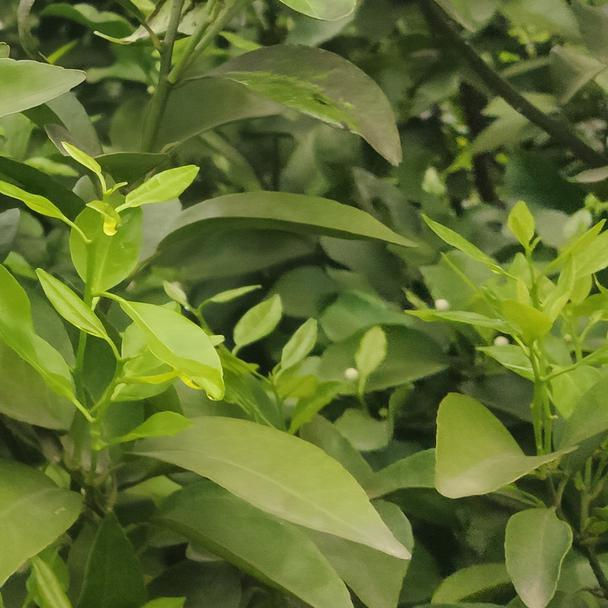shoot: (5, 134, 212, 395), (431, 211, 605, 417)
